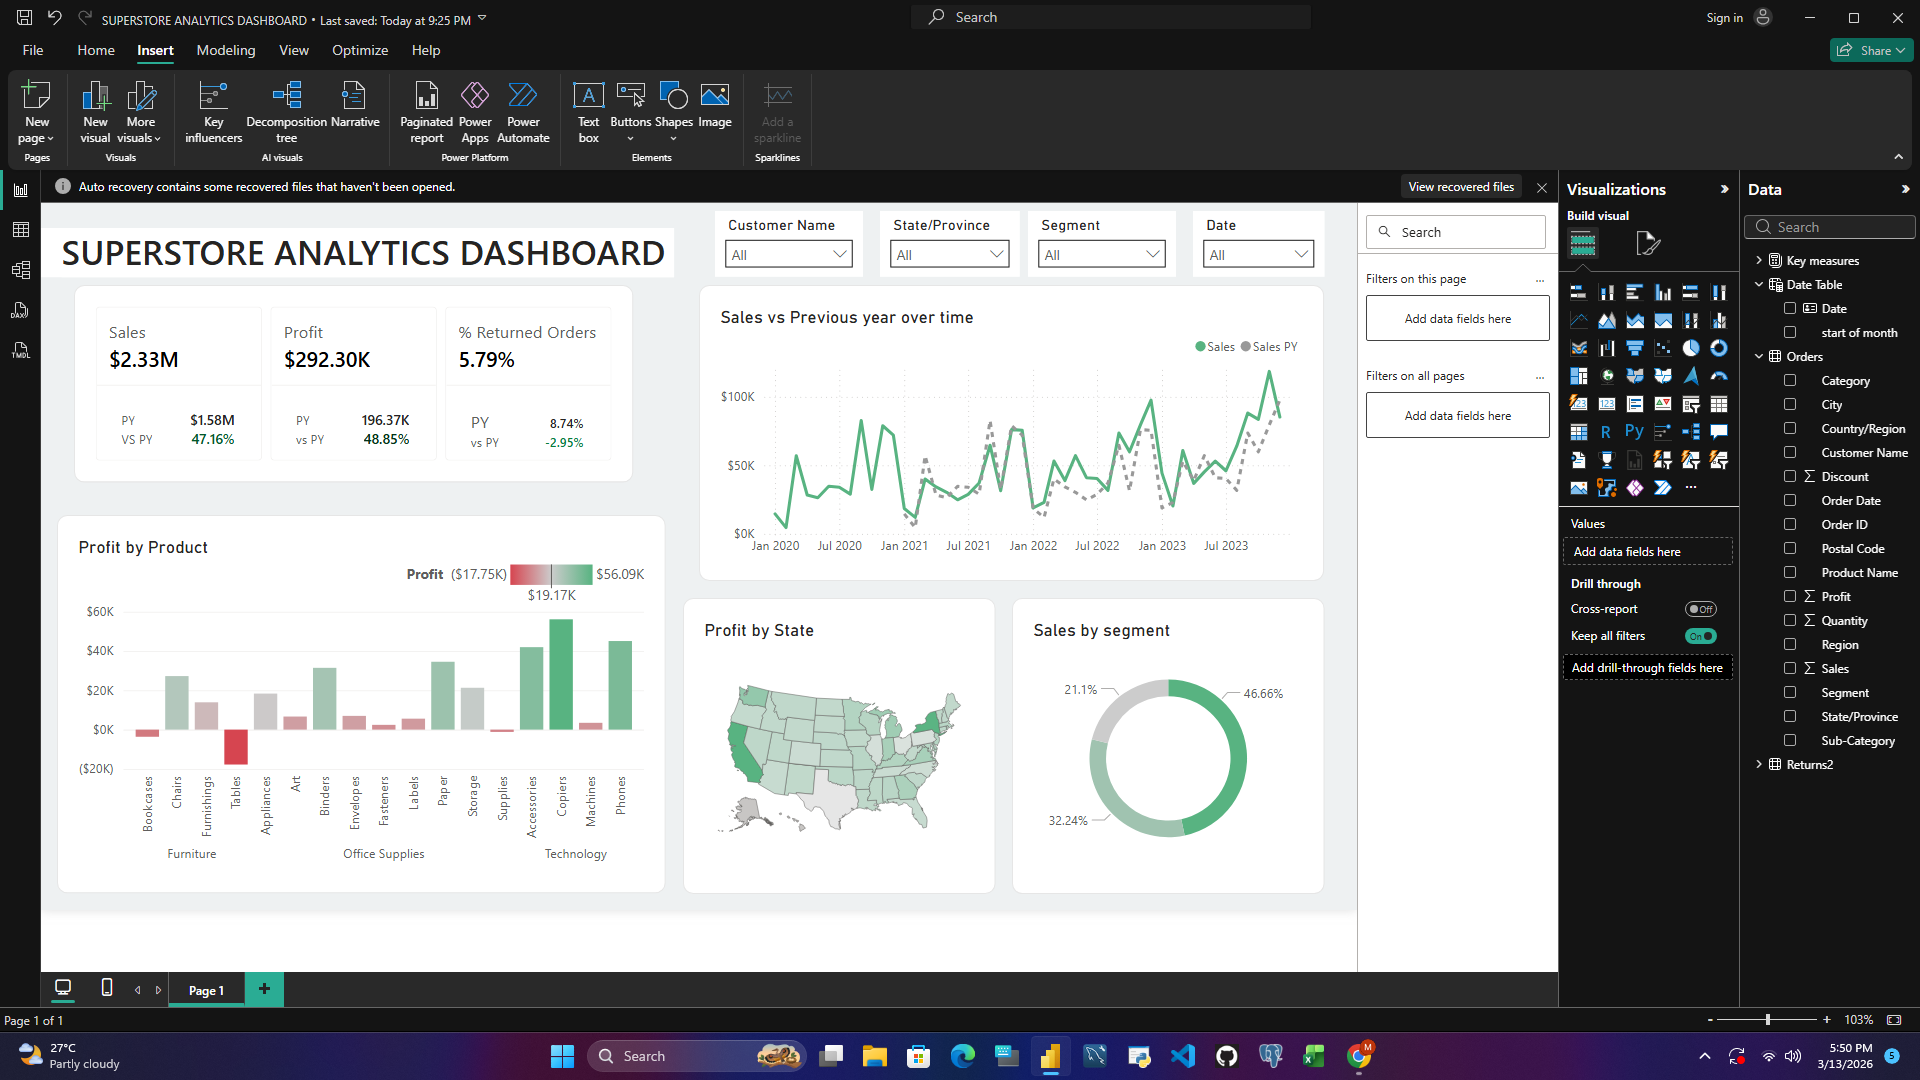

The page's visual inventory and layout, read from the dashboard file:
{"tool":"powerbi","page":{"name":"Page 1","canvas":[1280,720],"ordinal":0},"visuals":[{"type":"cardVisual","fields":{"Data":["Key measures.Sales","Key measures.Profit","Key measures.% Returned Orders"]},"box":[32,112,544,192],"z":0},{"type":"shape","title":"SUPERSTORE ANALYTICS DASHBOARD","box":[0,56,616,48],"z":1000},{"type":"lineChart","title":"Sales vs Previous year over time","fields":{"Y":["Key measures.Sales","Key measures.Sales PY"],"Category":["Date Table.start of month"]},"box":[640,112,608,288],"z":2000},{"type":"clusteredColumnChart","title":"Profit by Product","fields":{"Category":["Orders.Category","Orders.Sub-Category"],"Y":["Key measures.Profit"]},"box":[16,336,592,368],"z":3000},{"type":"shapeMap","title":"Profit by State","fields":{"Value":["Key measures.Profit"],"Category":["Orders.State/Province"]},"box":[624,416,304,288],"z":4000},{"type":"donutChart","title":"Sales by segment","fields":{"Y":["Key measures.Profit"],"Category":["Orders.Segment"]},"box":[944,416,304,288],"z":5000},{"type":"slicer","fields":{"Values":["Orders.State/Province"]},"box":[816,40,136,64],"z":5001},{"type":"slicer","fields":{"Values":["Orders.Customer Name"]},"box":[656,40,144,64],"z":5002},{"type":"slicer","fields":{"Values":["Orders.Segment"]},"box":[960,40,144,64],"z":5003},{"type":"slicer","fields":{"Values":["Date Table.Date"]},"box":[1120,40,128,64],"z":5004}]}

Visuals, with their boxes on the page's 1280x720 design canvas (x1, y1, x2, y2). These are canvas units, not pixel positions in the 1920x1080 screenshot, which may show the page scaled, cropped or inside an application window:
cardVisual - Key measures.Sales x Key measures.Profit: rect(32, 112, 576, 304)
"SUPERSTORE ANALYTICS DASHBOARD" shape: rect(0, 56, 616, 104)
"Sales vs Previous year over time" lineChart: rect(640, 112, 1248, 400)
"Profit by Product" clusteredColumnChart: rect(16, 336, 608, 704)
"Profit by State" shapeMap: rect(624, 416, 928, 704)
"Sales by segment" donutChart: rect(944, 416, 1248, 704)
slicer - Orders.State/Province: rect(816, 40, 952, 104)
slicer - Orders.Customer Name: rect(656, 40, 800, 104)
slicer - Orders.Segment: rect(960, 40, 1104, 104)
slicer - Date Table.Date: rect(1120, 40, 1248, 104)
